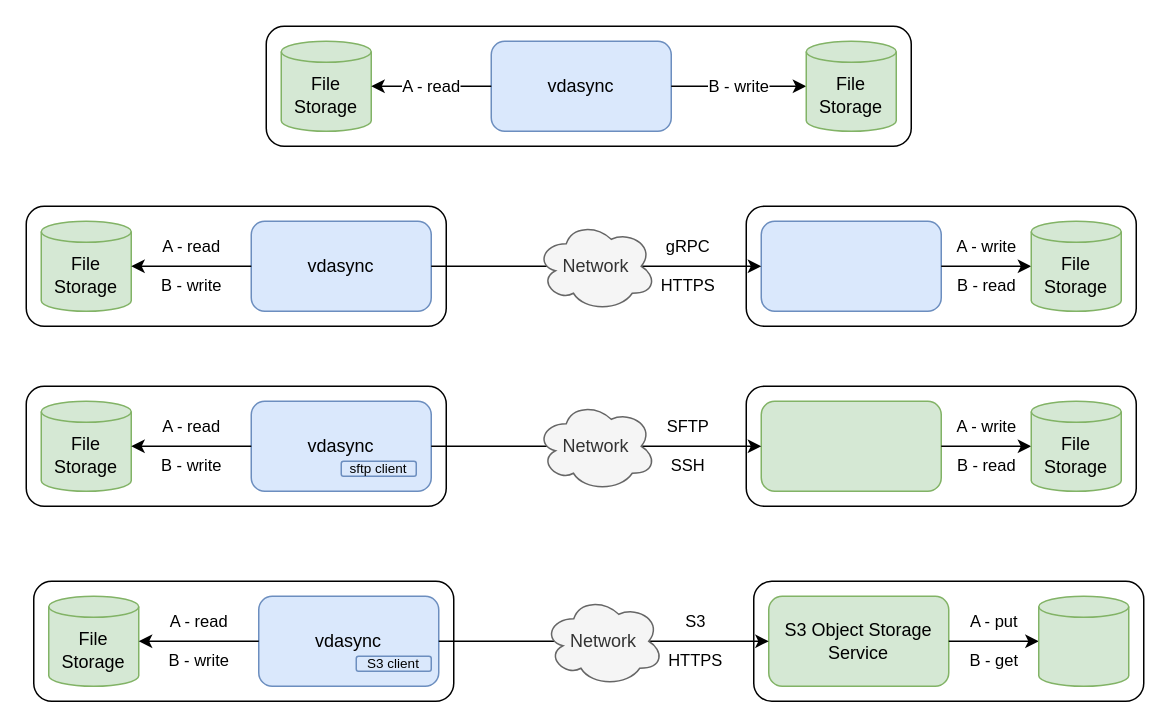
Image size: 1170x728. Some labels were removed from this diagram. The centre of each missing label's shape, as x and y in pixels:
S3 Bucket: [1083,640]
SFTP Server: [850,445]
vdaserver: [850,265]
